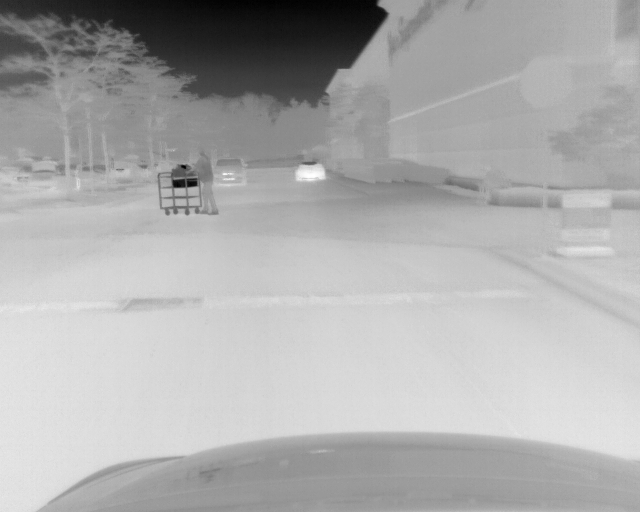car: (27, 160, 60, 193), (211, 157, 247, 186), (292, 158, 326, 183), (108, 162, 132, 182)
people: (192, 149, 220, 215), (475, 159, 514, 206)
